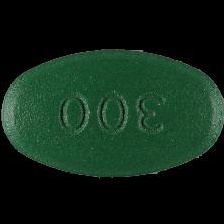10544-627: (0, 0, 224, 224)
